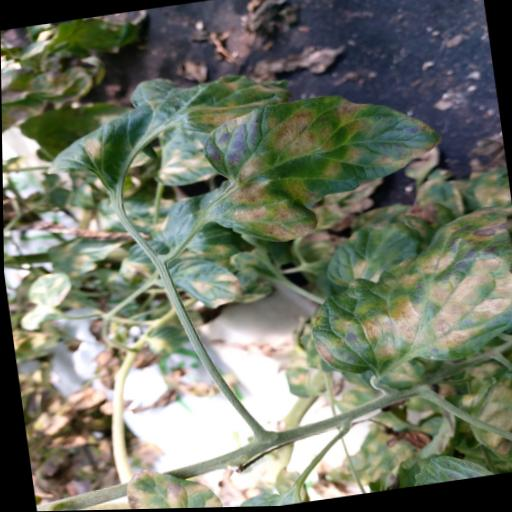Leaf Mold: (198, 81, 453, 252), (35, 59, 303, 201), (297, 204, 512, 380), (321, 218, 425, 291), (121, 458, 222, 510), (167, 251, 246, 315), (149, 126, 219, 190)
